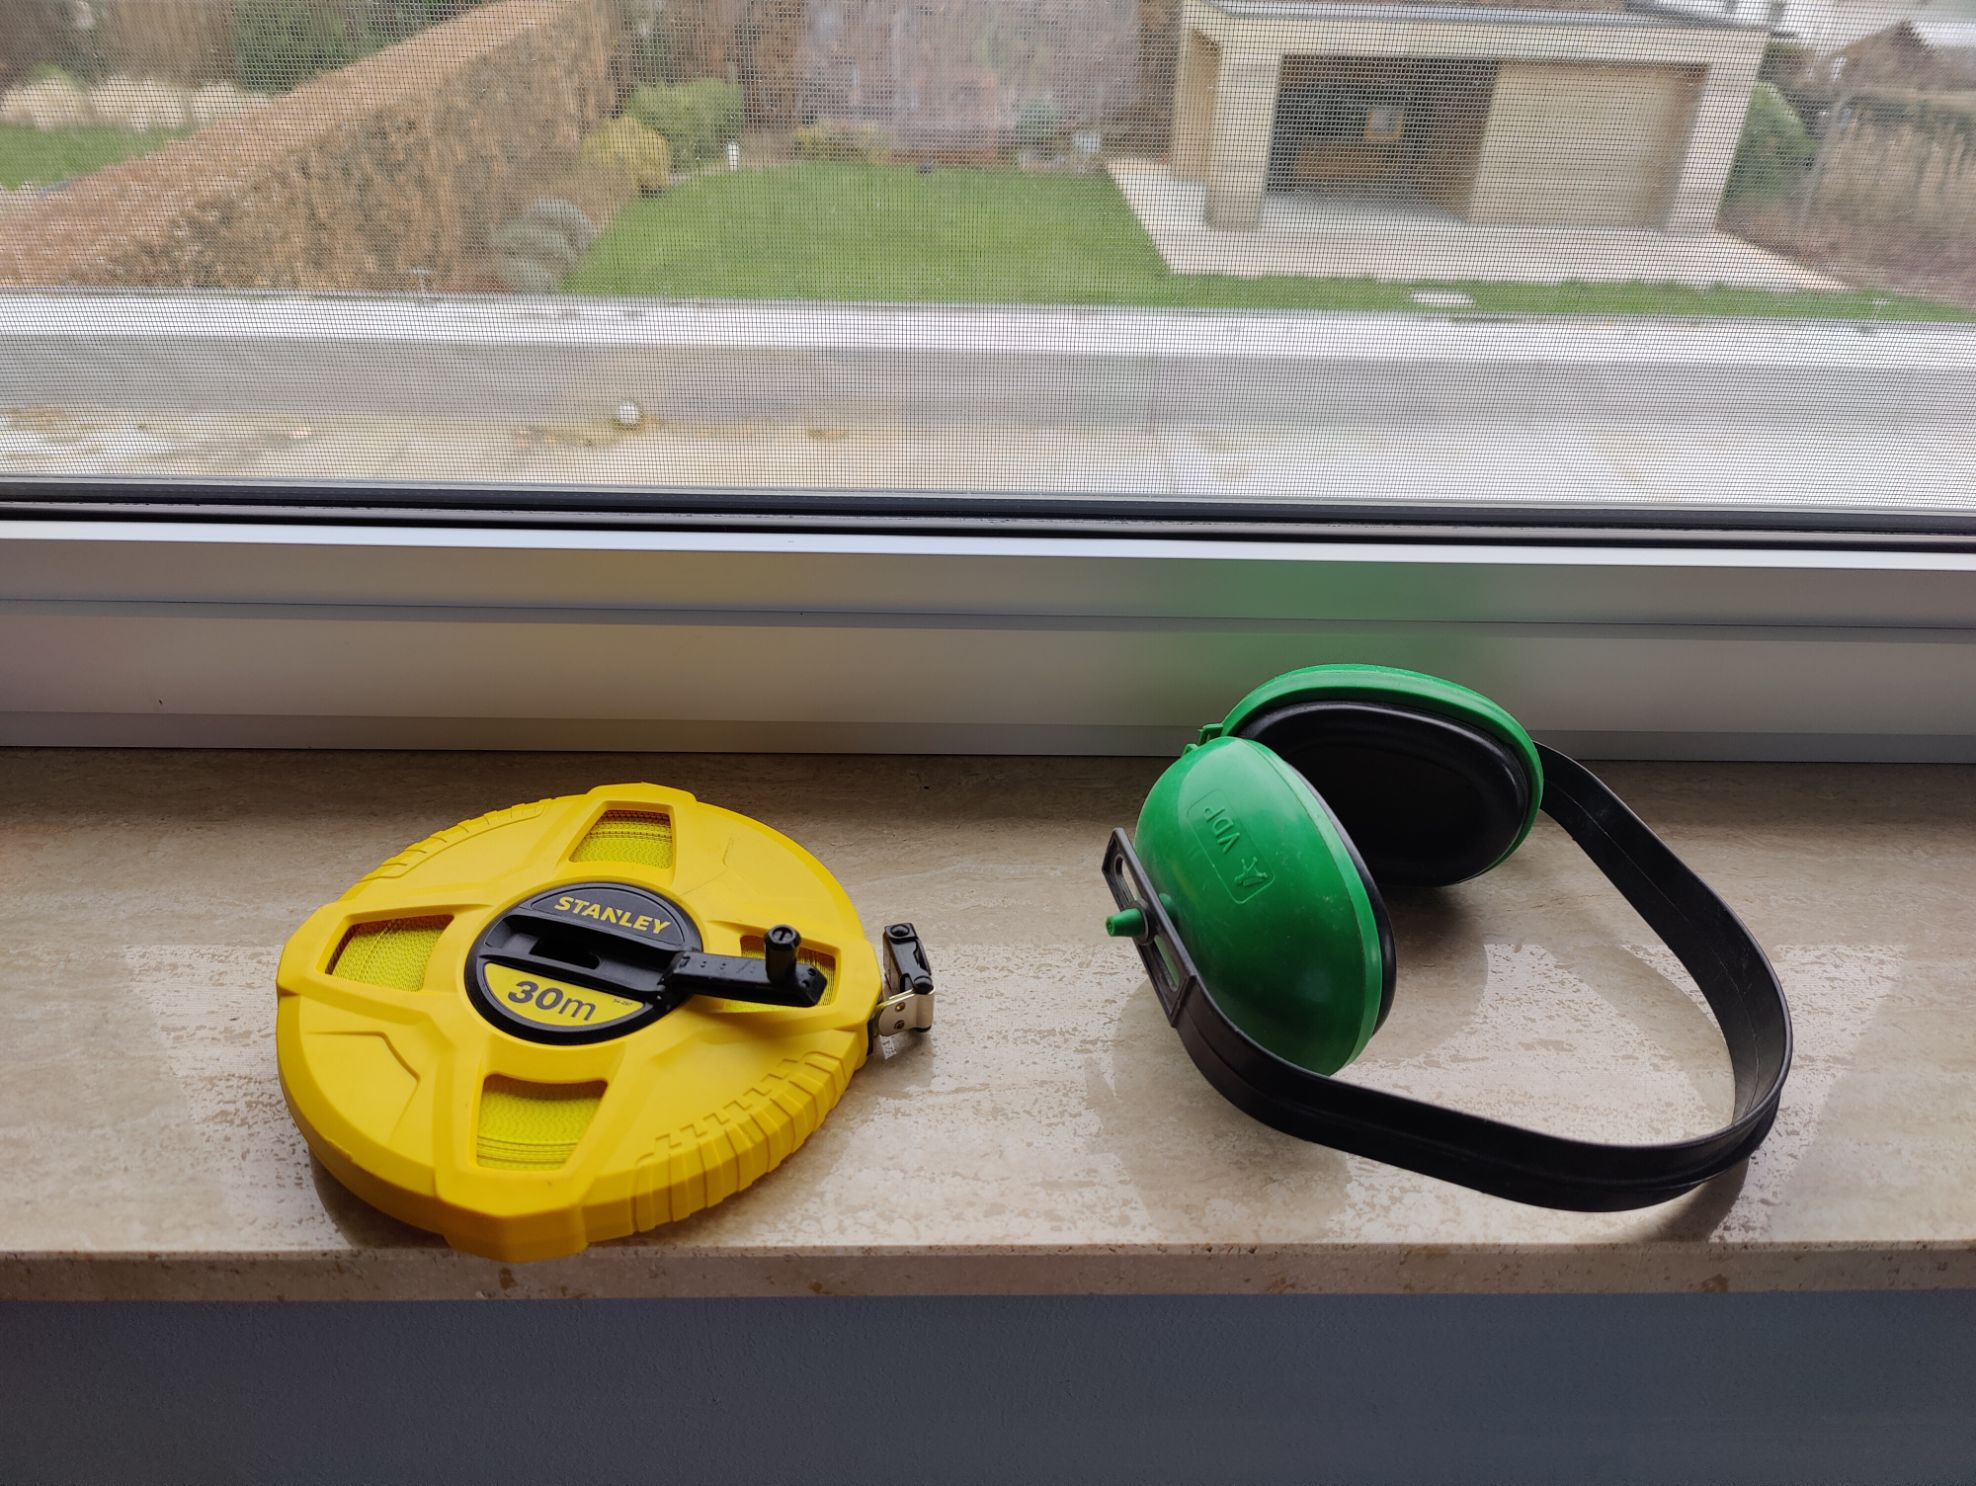headphones: (1091, 660, 1792, 1214)
tapemeasure: (267, 773, 936, 1252)
